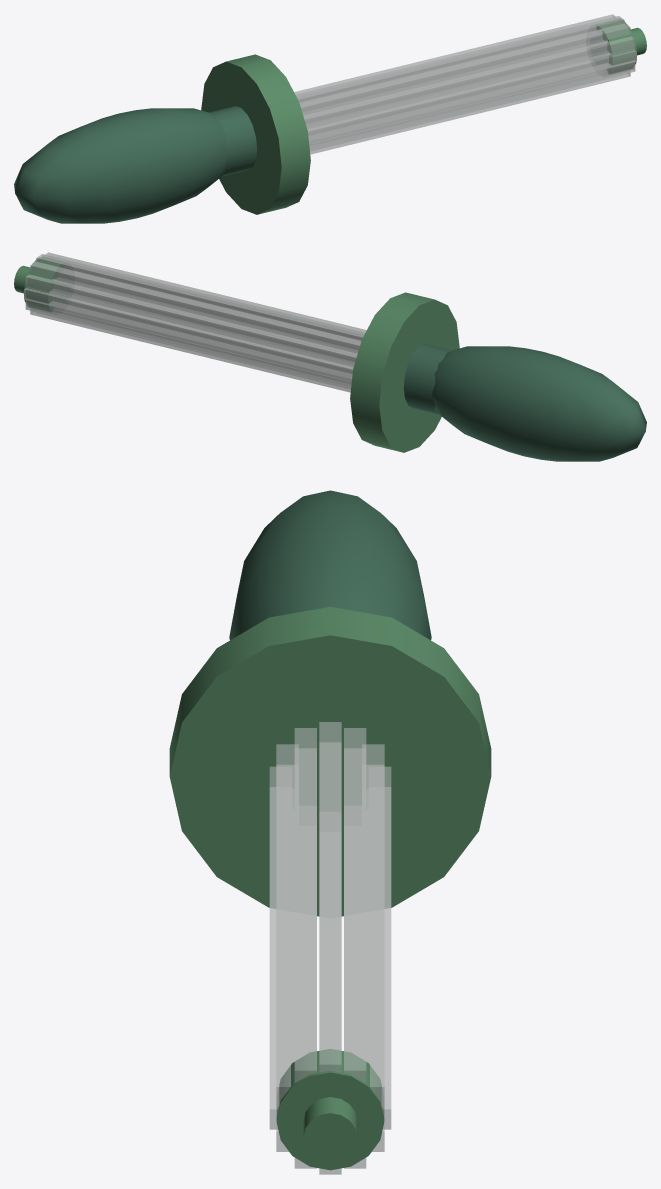
File: CMU3DRMCDropperMedicalSmallCloud.glb
The picture shows the model from 3 angles, top to bottom: view 1: azimuth 30°, elevation 25°; view 2: azimuth 150°, elevation 25°; view 3: azimuth 270°, elevation 25°; orthographic projection. The views are drawn at different scales.
Visible parts, largest first — view 1: green rubber bulb, green collar, hollow pipette wall 5, hollow pipette wall 4, hollow pipette wall 6, hollow pipette wall 7, hollow pipette wall 3, hollow pipette wall 8, hollow pipette wall 2, hollow pipette wall 11, bulb-to-collar continuous neck, pipette narrow tip shoulder (+2 smaller); view 2: green rubber bulb, green collar, hollow pipette wall 1, hollow pipette wall 2, hollow pipette wall 0, hollow pipette wall 11, hollow pipette wall 3, hollow pipette wall 10, hollow pipette wall 4, hollow pipette wall 7, bulb-to-collar continuous neck, pipette narrow tip shoulder (+2 smaller); view 3: green collar, green rubber bulb, hollow pipette wall 3, hollow pipette wall 2, hollow pipette wall 4, hollow pipette wall 1, hollow pipette wall 5, pipette narrow tip shoulder, hollow pipette wall 0, hollow pipette wall 6, hollow pipette wall 9, hollow pipette wall 8 (+2 smaller).
Boxes of the visible parts, x1,y1,x2,y2 form: green rubber bulb: (14,108,228,223); green collar: (201,54,310,214); hollow pipette wall 5: (303,36,635,128); hollow pipette wall 4: (299,23,630,116); hollow pipette wall 6: (307,50,636,141); hollow pipette wall 7: (309,62,635,150); hollow pipette wall 3: (295,16,624,107); hollow pipette wall 8: (309,70,630,154); hollow pipette wall 2: (294,14,617,101); hollow pipette wall 11: (305,50,587,125); bulb-to-collar continuous neck: (209,106,257,176); pipette narrow tip shoulder: (589,19,636,74); green rubber bulb: (432,346,646,461); green collar: (350,292,459,452); hollow pipette wall 1: (25,274,357,366); hollow pipette wall 2: (30,261,361,354); hollow pipette wall 0: (24,288,353,379); hollow pipette wall 11: (25,300,351,388); hollow pipette wall 3: (36,254,365,345); hollow pipette wall 10: (30,308,351,392); hollow pipette wall 4: (43,252,366,339); hollow pipette wall 7: (73,288,355,363); bulb-to-collar continuous neck: (403,344,451,414); pipette narrow tip shoulder: (24,257,71,312); green collar: (169,607,491,916); green rubber bulb: (229,490,431,640); hollow pipette wall 3: (319,722,341,1072); hollow pipette wall 2: (344,728,366,1082); hollow pipette wall 4: (294,728,316,1082); hollow pipette wall 1: (362,744,384,1107); hollow pipette wall 5: (276,744,298,1107); pipette narrow tip shoulder: (276,1048,384,1170); hollow pipette wall 0: (369,766,391,1129); hollow pipette wall 6: (269,766,291,1129); hollow pipette wall 9: (319,832,341,1174); hollow pipette wall 8: (294,826,316,1168).
Bounding box in the file's own units: 0.642 × 0.139 × 0.143.
